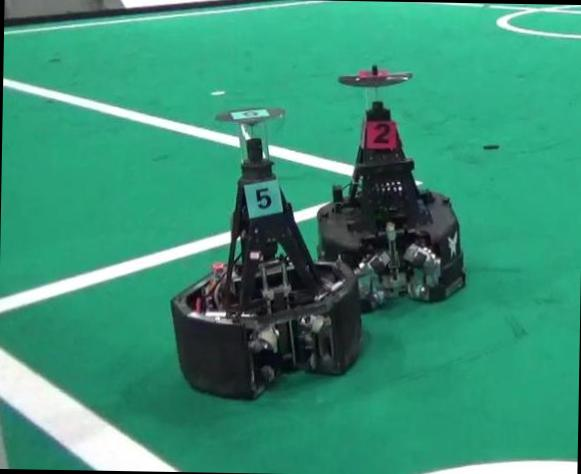robot: (171, 107, 360, 398), (317, 66, 465, 310)
